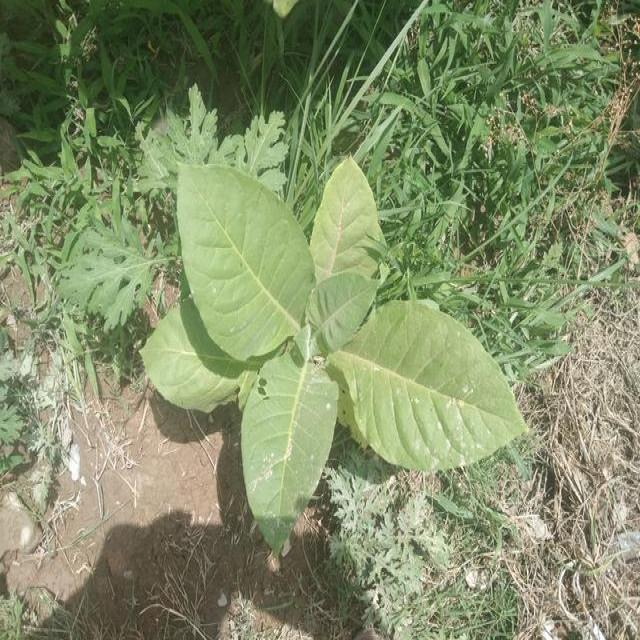crop: (154, 166, 518, 521)
